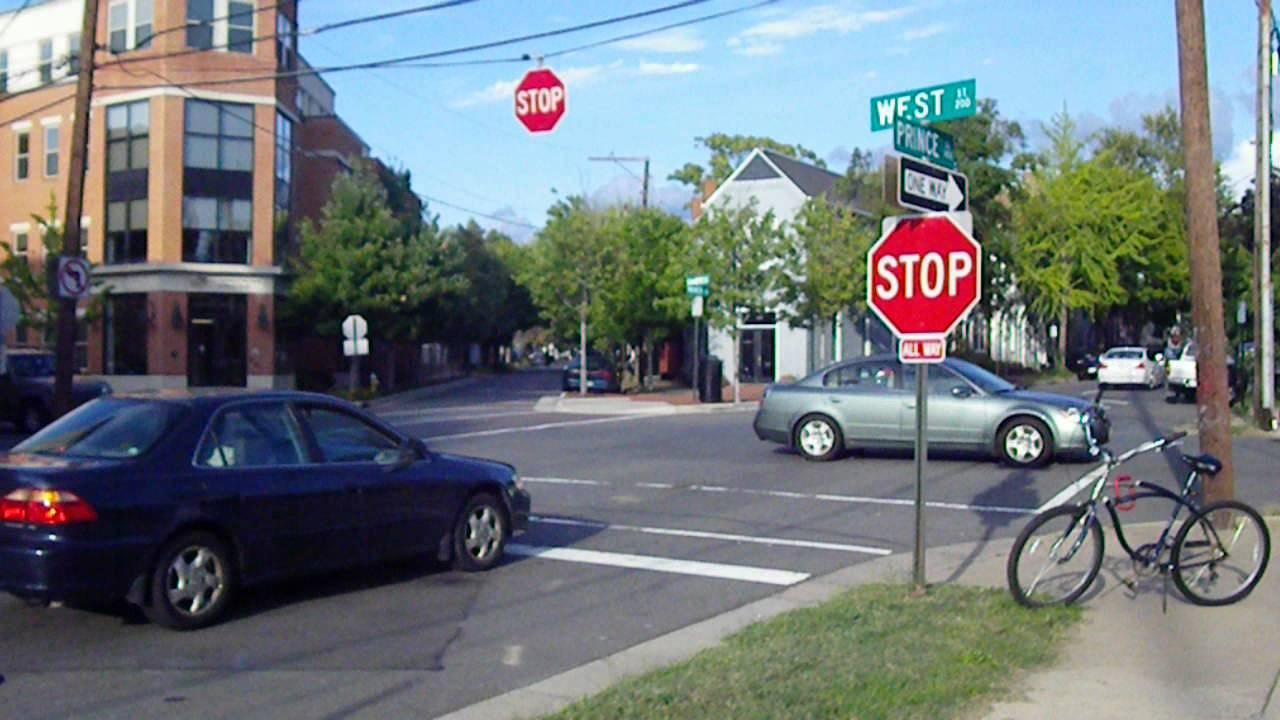Pole: (915, 365, 927, 576), (691, 320, 699, 402), (352, 357, 360, 403)
Sign: (867, 219, 981, 340), (511, 70, 567, 133), (342, 316, 366, 340)
